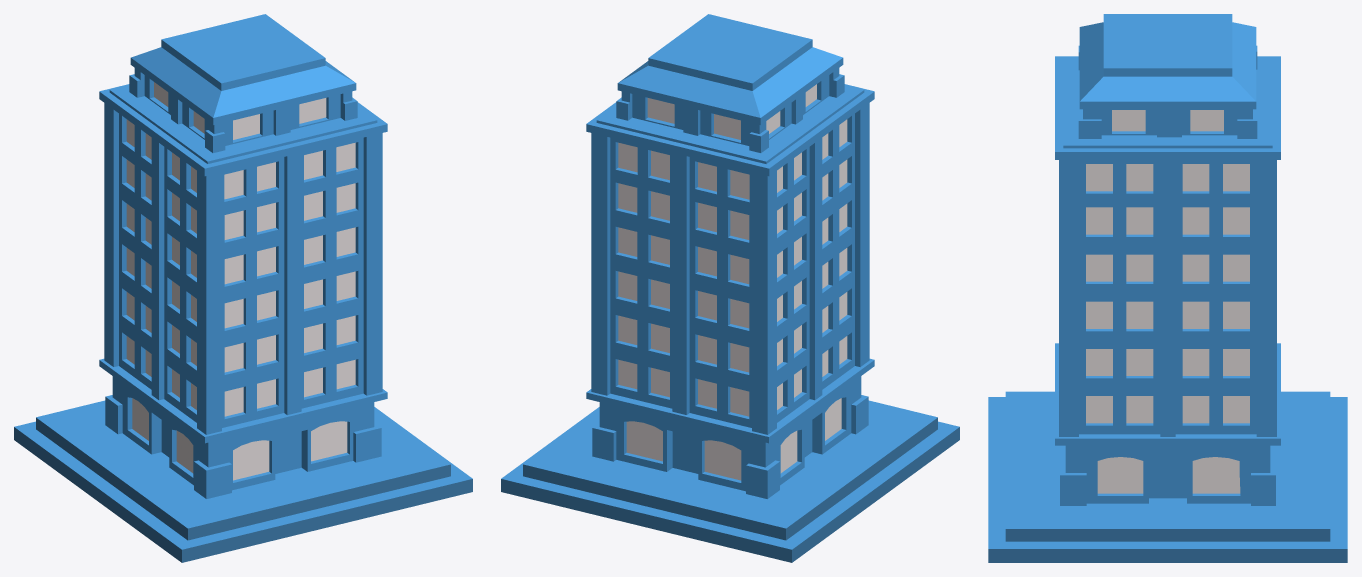
Rendered from blueapartmentlevel2 (1).fbx.
3 views of the same model, side by side, from view 1: azimuth 30°, elevation 25°; view 2: azimuth 150°, elevation 25°; view 3: azimuth 270°, elevation 25° (orthographic). The views are drawn at different scales.
Visible parts, largest first — view 1: 2apartmantblue, 2apartmantbaseblue, 2apartmantlight1blue, 2apartmantlight6blue, 2apartmantlight3blue, 2apartmantlight5blue, 2apartmantlight2blue, 2apartmantlight4blue, 2apartmantlight7blue, 2apartmantlight8blue; view 2: 2apartmantblue, 2apartmantbaseblue, 2apartmantlight1blue, 2apartmantlight6blue, 2apartmantlight3blue, 2apartmantlight5blue, 2apartmantlight2blue, 2apartmantlight4blue, 2apartmantlight7blue, 2apartmantlight8blue; view 3: 2apartmantblue, 2apartmantbaseblue, 2apartmantlight1blue, 2apartmantlight6blue, 2apartmantlight7blue, 2apartmantlight5blue, 2apartmantlight4blue, 2apartmantlight2blue, 2apartmantlight3blue, 2apartmantlight8blue.
Boxes of the visible parts, left/top/right/bottom form: 2apartmantblue: left=99, top=14, right=387, bottom=498; 2apartmantbaseblue: left=14, top=400, right=472, bottom=562; 2apartmantlight1blue: left=132, top=398, right=347, bottom=480; 2apartmantlight6blue: left=126, top=159, right=355, bottom=239; 2apartmantlight3blue: left=126, top=292, right=355, bottom=372; 2apartmantlight5blue: left=126, top=203, right=355, bottom=284; 2apartmantlight2blue: left=126, top=336, right=355, bottom=416; 2apartmantlight4blue: left=126, top=248, right=355, bottom=328; 2apartmantlight7blue: left=126, top=119, right=355, bottom=199; 2apartmantlight8blue: left=154, top=82, right=326, bottom=139; 2apartmantblue: left=586, top=14, right=874, bottom=498; 2apartmantbaseblue: left=501, top=400, right=959, bottom=562; 2apartmantlight1blue: left=626, top=398, right=841, bottom=480; 2apartmantlight6blue: left=618, top=159, right=847, bottom=239; 2apartmantlight3blue: left=618, top=292, right=847, bottom=372; 2apartmantlight5blue: left=618, top=203, right=847, bottom=284; 2apartmantlight2blue: left=618, top=336, right=847, bottom=416; 2apartmantlight4blue: left=618, top=248, right=847, bottom=328; 2apartmantlight7blue: left=618, top=119, right=847, bottom=199; 2apartmantlight8blue: left=647, top=84, right=816, bottom=139; 2apartmantblue: left=1055, top=14, right=1280, bottom=505; 2apartmantbaseblue: left=988, top=391, right=1347, bottom=562; 2apartmantlight1blue: left=1097, top=457, right=1240, bottom=493; 2apartmantlight6blue: left=1086, top=207, right=1249, bottom=234; 2apartmantlight7blue: left=1086, top=164, right=1249, bottom=191; 2apartmantlight5blue: left=1086, top=254, right=1249, bottom=281; 2apartmantlight4blue: left=1086, top=301, right=1249, bottom=328; 2apartmantlight2blue: left=1086, top=396, right=1249, bottom=423; 2apartmantlight3blue: left=1086, top=349, right=1249, bottom=375; 2apartmantlight8blue: left=1112, top=110, right=1223, bottom=131.
Size of the model in its own units: 577 by 790 by 577.
